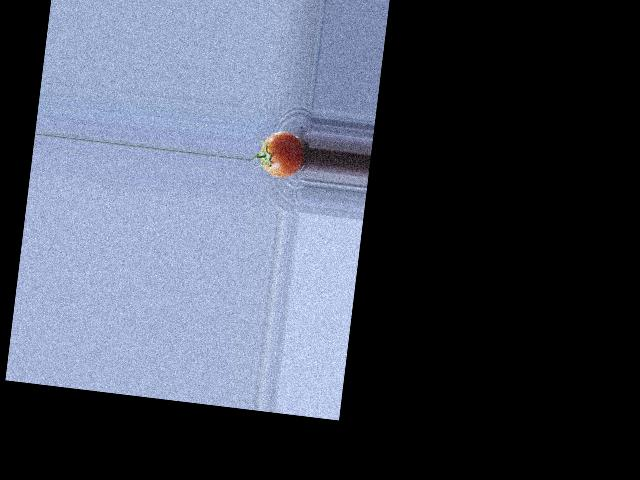tomato: (258, 129, 307, 179)
